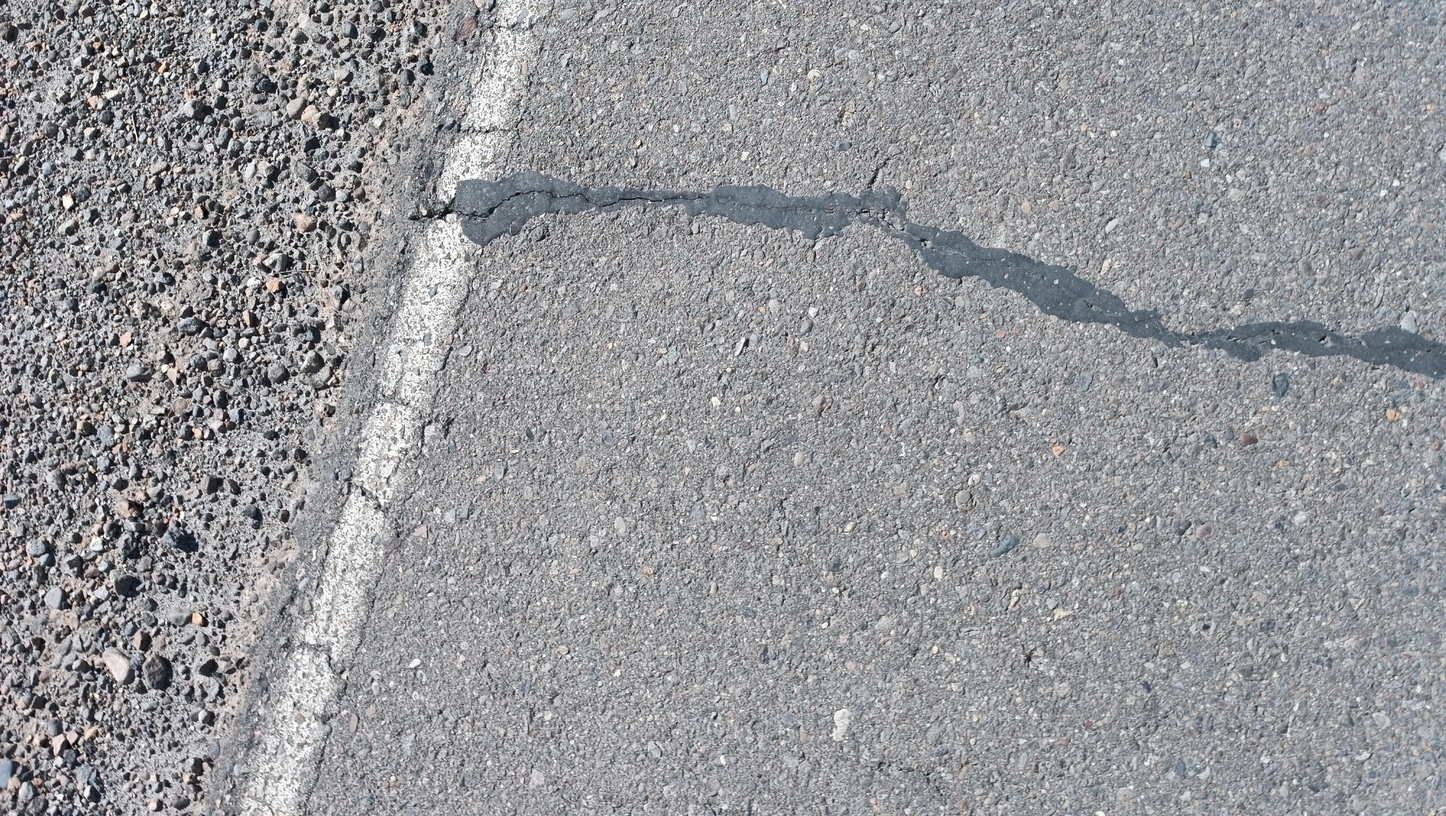GRIETA: (450, 188, 985, 265)
PARCHE: (449, 173, 1446, 376)
